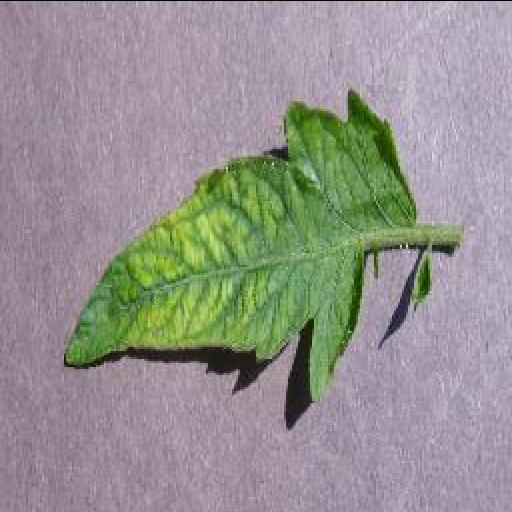Mosaic Virus: (59, 86, 417, 404)
